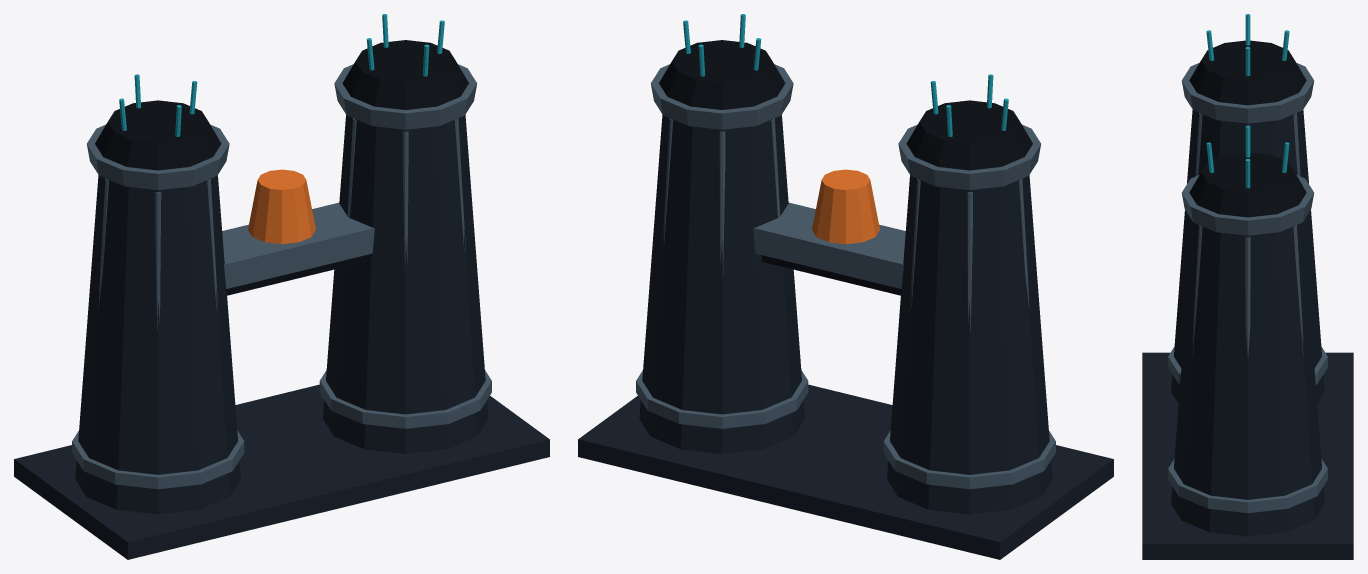
File: chaos_plasma_foundry.obj
3 renders of one model, left to right at view 1: azimuth 30°, elevation 25°; view 2: azimuth 150°, elevation 25°; view 3: azimuth 270°, elevation 25°, orthographic. The views are drawn at different scales.
Visible parts, largest first — view 1: ReactorShell-1, ReactorShell1, FoundryFoot, TransferBridge, ExhaustBell1, ExhaustBell-1, FusionCore, PressureRing-1, PressureRing1, LowerBand-1, LowerBand1, BridgeUndercut (+2 smaller); view 2: ReactorShell-1, ReactorShell1, FoundryFoot, TransferBridge, ExhaustBell1, ExhaustBell-1, FusionCore, PressureRing-1, PressureRing1, LowerBand-1, LowerBand1, BridgeUndercut (+2 smaller); view 3: ReactorShell1, FoundryFoot, ReactorShell-1, ExhaustBell1, ExhaustBell-1, PressureRing1, PressureRing-1, LowerBand1, ShellRib1_0, LowerBand-1, ShellRib1_1, ShellRib1_5.
Part boxes in pixels (left/top/right/bottom): ReactorShell-1: left=75, top=175, right=240, bottom=514; ReactorShell1: left=323, top=114, right=488, bottom=453; FoundryFoot: left=14, top=384, right=549, bottom=559; TransferBridge: left=222, top=202, right=374, bottom=288; ExhaustBell1: left=342, top=40, right=468, bottom=109; ExhaustBell-1: left=95, top=100, right=221, bottom=170; FusionCore: left=248, top=169, right=315, bottom=244; PressureRing-1: left=87, top=124, right=229, bottom=190; PressureRing1: left=334, top=64, right=477, bottom=129; LowerBand-1: left=72, top=430, right=244, bottom=489; LowerBand1: left=319, top=370, right=491, bottom=428; BridgeUndercut: left=226, top=255, right=366, bottom=295; ReactorShell-1: left=887, top=175, right=1052, bottom=514; ReactorShell1: left=639, top=114, right=804, bottom=453; FoundryFoot: left=578, top=384, right=1113, bottom=559; TransferBridge: left=753, top=202, right=905, bottom=288; ExhaustBell1: left=659, top=40, right=785, bottom=109; ExhaustBell-1: left=906, top=100, right=1032, bottom=170; FusionCore: left=812, top=169, right=879, bottom=244; PressureRing-1: left=898, top=124, right=1040, bottom=190; PressureRing1: left=650, top=64, right=793, bottom=129; LowerBand-1: left=883, top=430, right=1055, bottom=489; LowerBand1: left=636, top=370, right=808, bottom=428; BridgeUndercut: left=761, top=255, right=901, bottom=295; ReactorShell1: left=1171, top=222, right=1324, bottom=536; FoundryFoot: left=1142, top=352, right=1353, bottom=559; ReactorShell-1: left=1171, top=110, right=1324, bottom=403; ExhaustBell1: left=1189, top=152, right=1306, bottom=217; ExhaustBell-1: left=1189, top=40, right=1306, bottom=105; PressureRing1: left=1181, top=175, right=1314, bottom=235; PressureRing-1: left=1181, top=63, right=1314, bottom=123; LowerBand1: left=1168, top=459, right=1327, bottom=513; ShellRib1_0: left=1245, top=237, right=1250, bottom=358; LowerBand-1: left=1168, top=346, right=1327, bottom=384; ShellRib1_1: left=1192, top=225, right=1202, bottom=354; ShellRib1_5: left=1293, top=225, right=1303, bottom=354.
Bounding box in the file's own units: 30 × 27.62 × 14.
